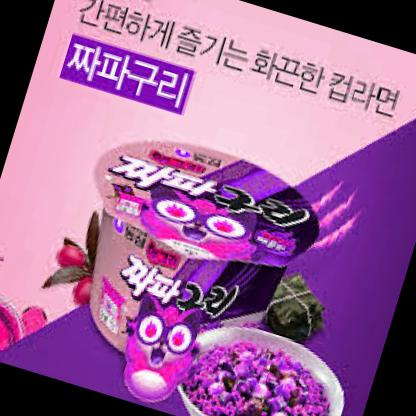Ramen: (46, 118, 326, 398)
